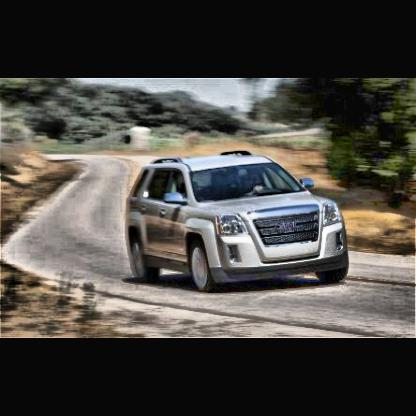GMC Terrain SUV 2012: (127, 154, 351, 293)
